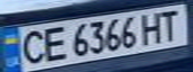3: (87, 18, 109, 55)
6: (118, 14, 142, 50), (103, 16, 127, 52), (69, 20, 90, 57)
C: (12, 27, 51, 65)
E: (36, 24, 69, 62)
H: (136, 10, 166, 45)
T: (154, 7, 187, 42)
